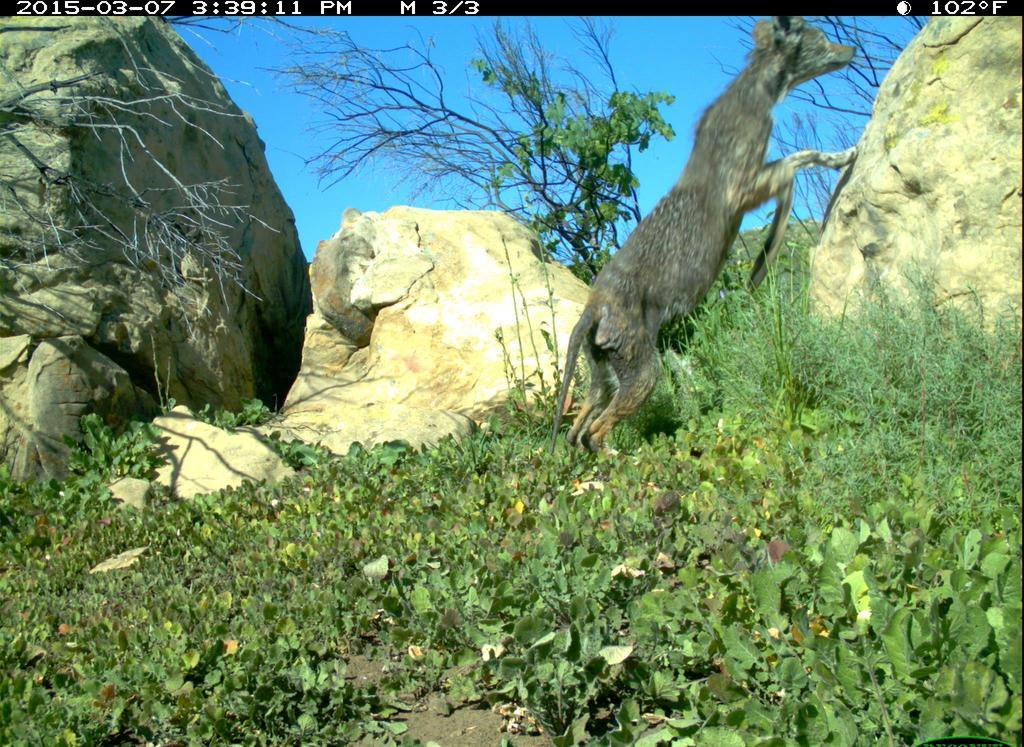coyote: (548, 20, 885, 472)
